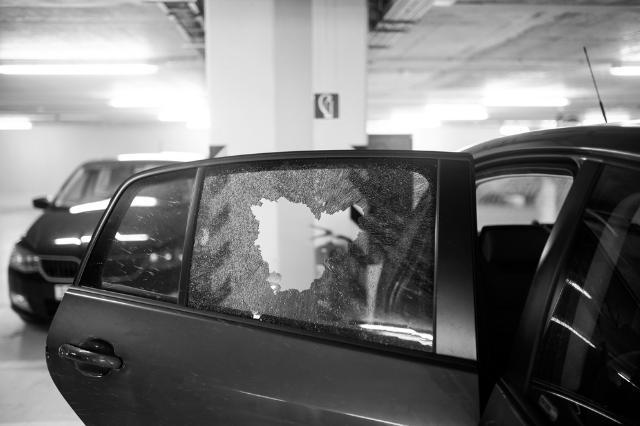Door: (95, 159, 488, 426)
